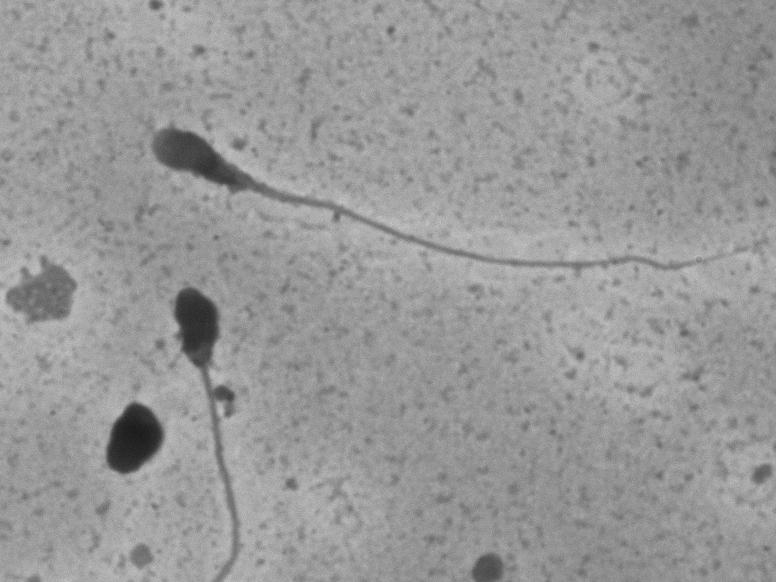Abnormal: (111, 92, 751, 322), (168, 259, 265, 576)
